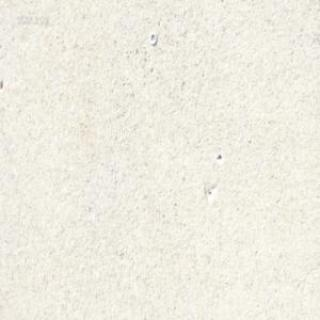Washertrack_idkeyframe: (148, 31, 156, 45)
